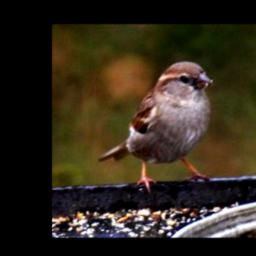Sparrow: (98, 59, 217, 195)
